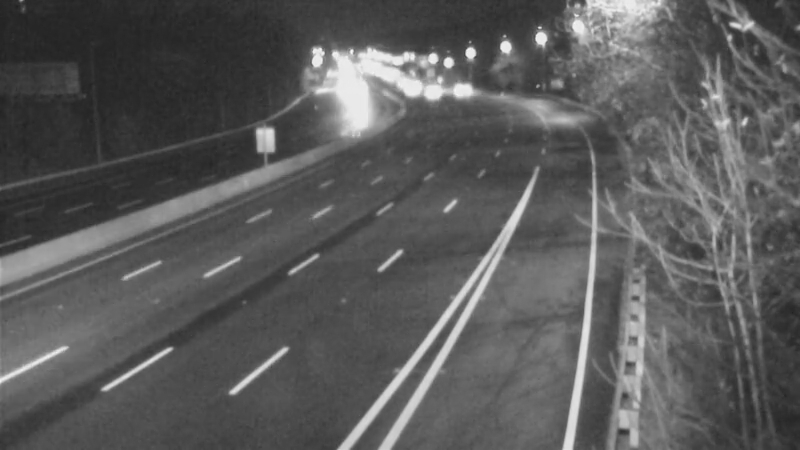vehicle: (404, 68, 454, 118), (437, 60, 487, 110)
